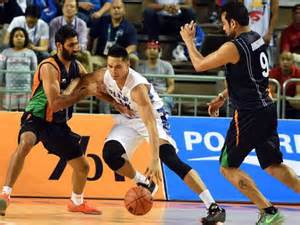basketball: (125, 188, 150, 214)
